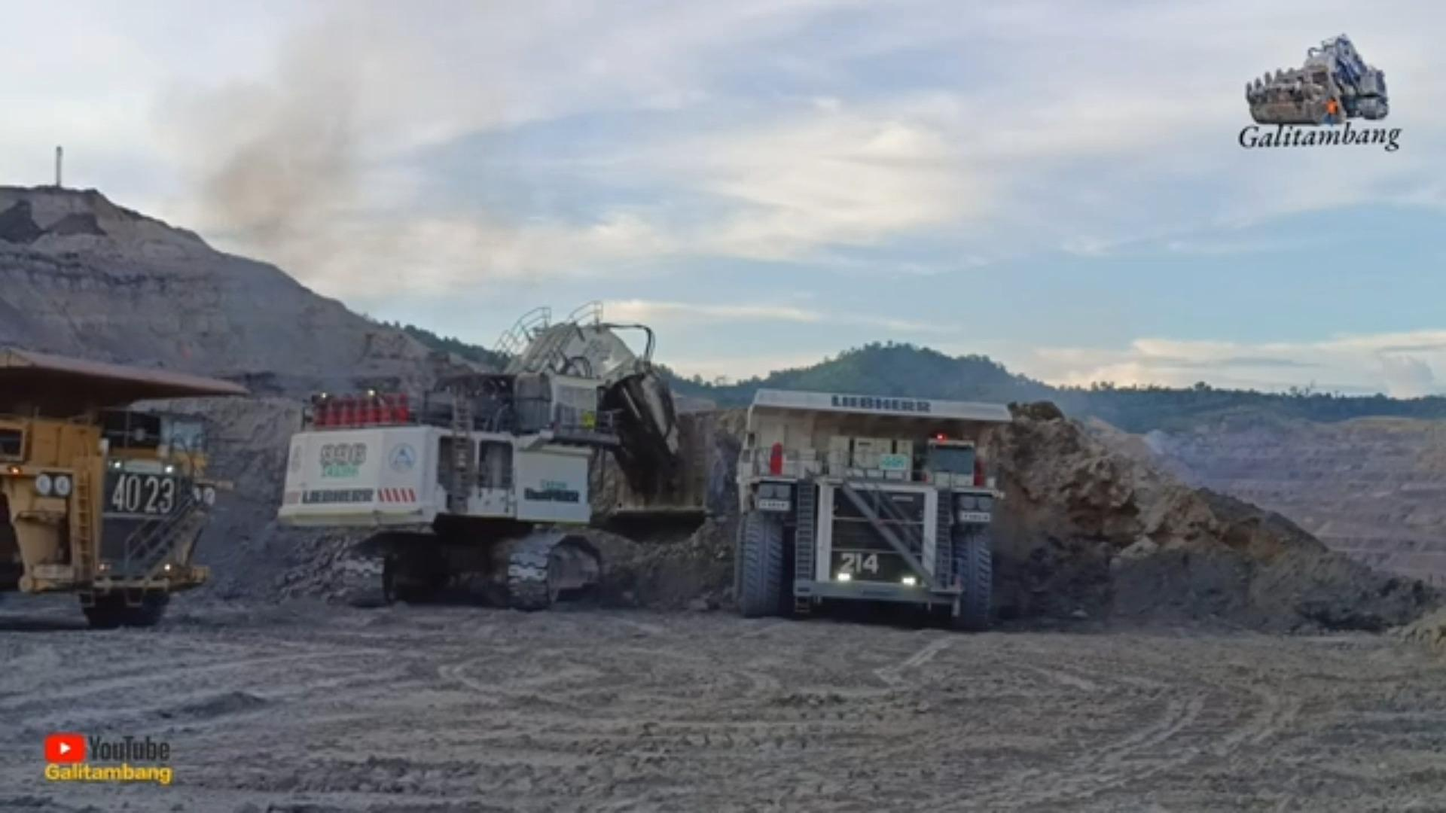Excavator: (278, 303, 729, 611), (731, 390, 1012, 621)
HD-Truck: (735, 389, 1013, 629)
